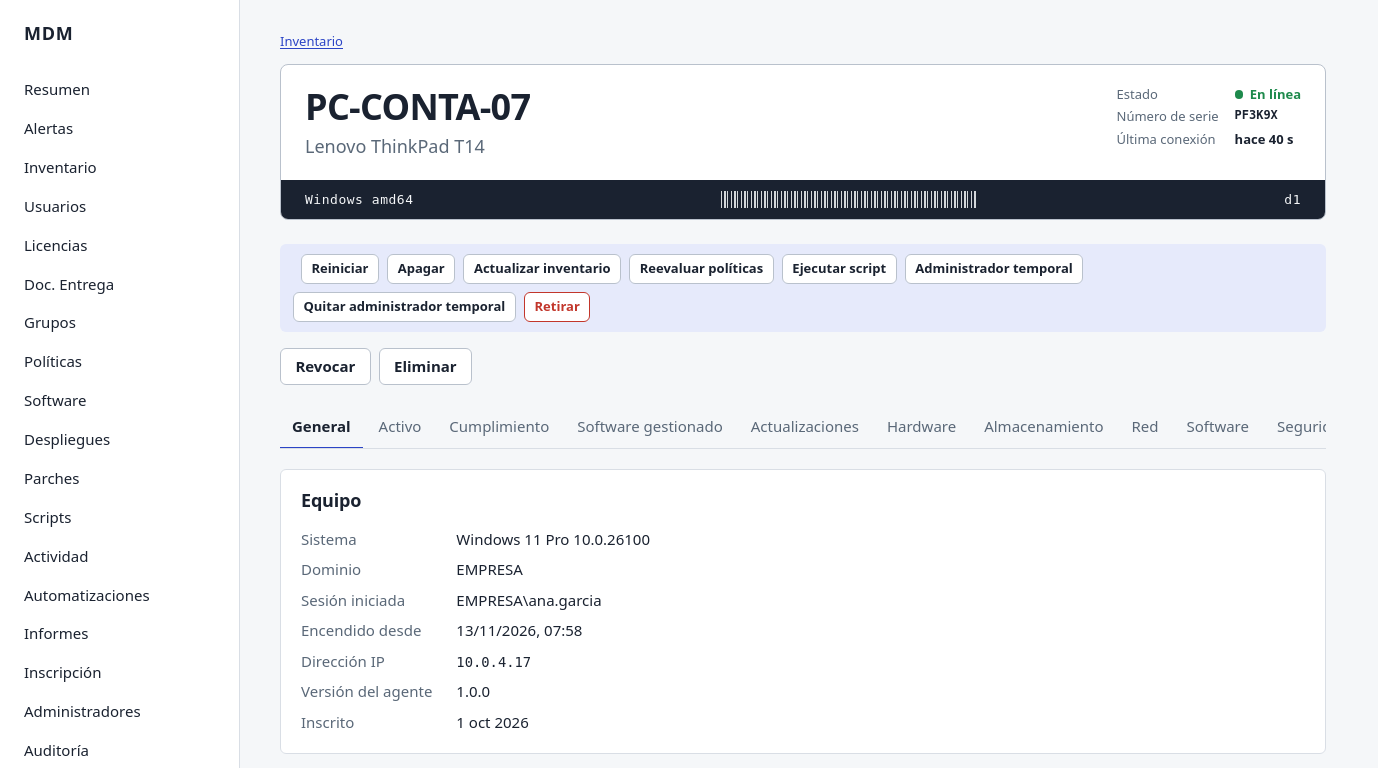
Cumplimiento del dispositivo › la pestaña muestra cada ajuste con su política y mensaje, y los conflictos
The image size is (1378, 768).
Click the tab "Cumplimiento" at coordinates (499, 427), box 437,405 -> 561,449
(page scrolled)
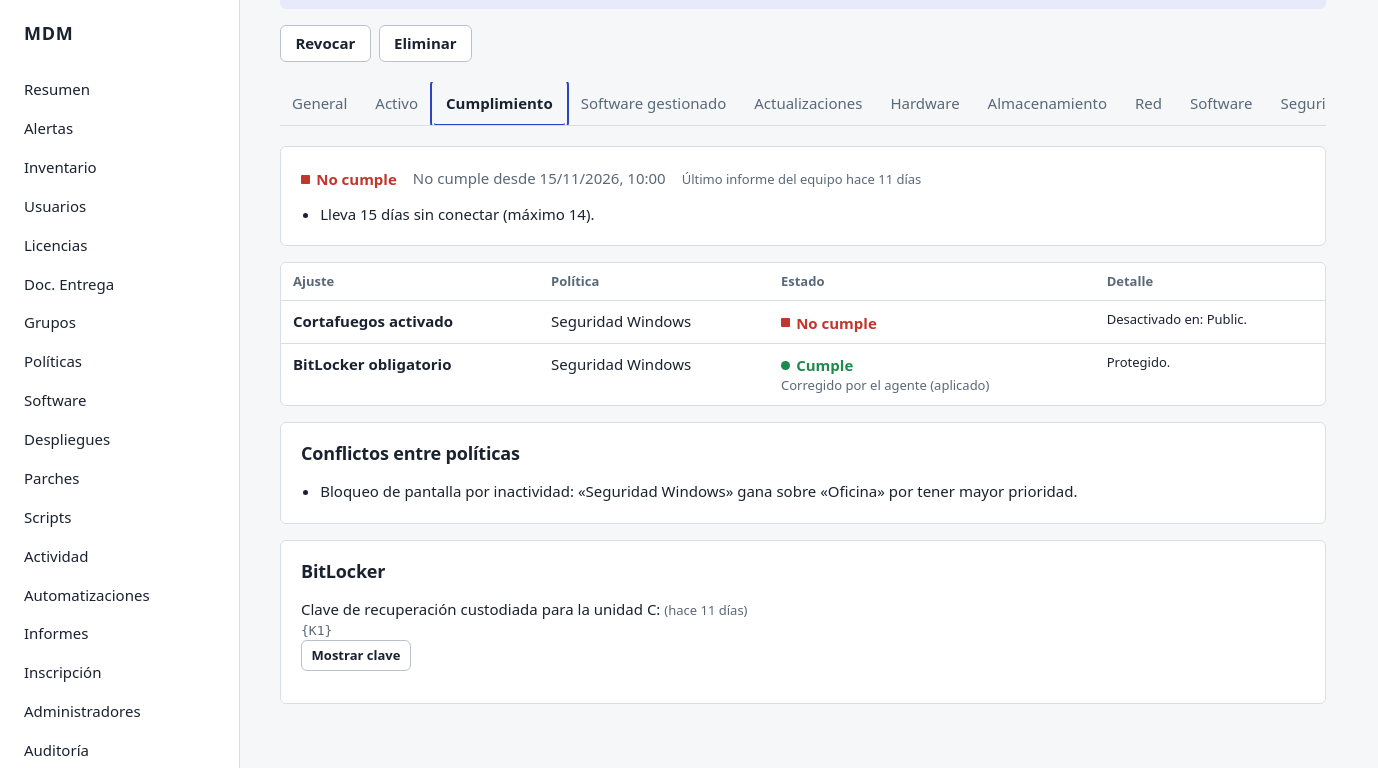
Expected: the text "Seguridad Windows" next to "Cortafuegos activado" is shown, 551,311 -> 691,331
Expected: the text "Desactivado en: Public." is shown, 1095,301 -> 1325,343
Expected: the text "No cumple" in the row of "Cortafuegos activado" is shown, 796,312 -> 877,332
